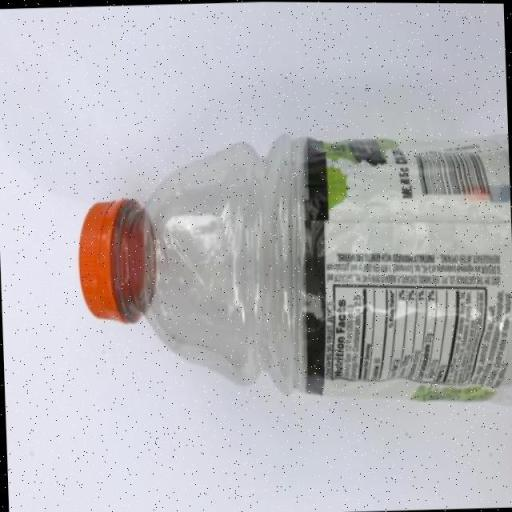plastic: (73, 122, 512, 412)
